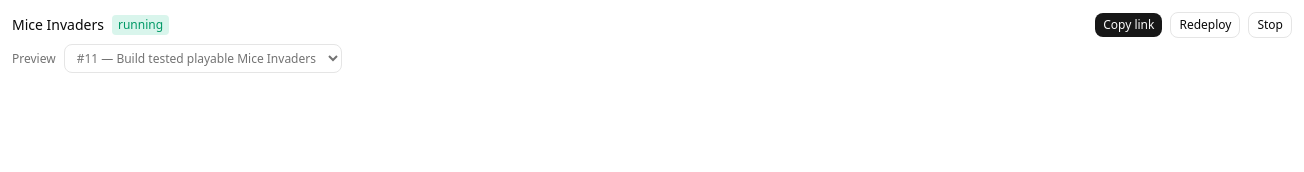
Scenario: RepoPreviewRow › respects the choice once someone picks
Select "the latest build" in the dropdown. click: (203, 58)
box: left=64, top=44, right=342, bottom=73
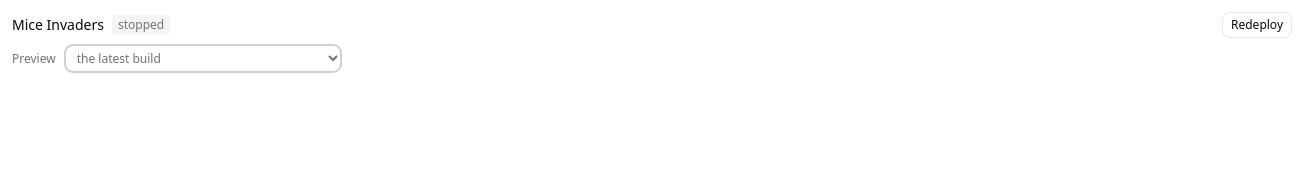
Now the text "stopped" is shown, box left=112, top=15, right=170, bottom=35
